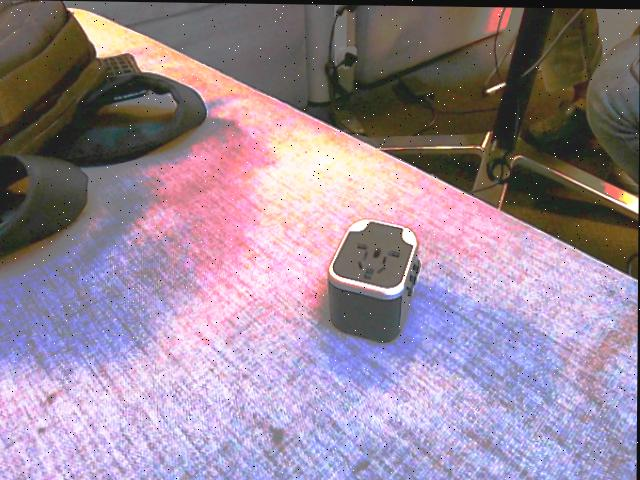adapter: (326, 217, 421, 342)
